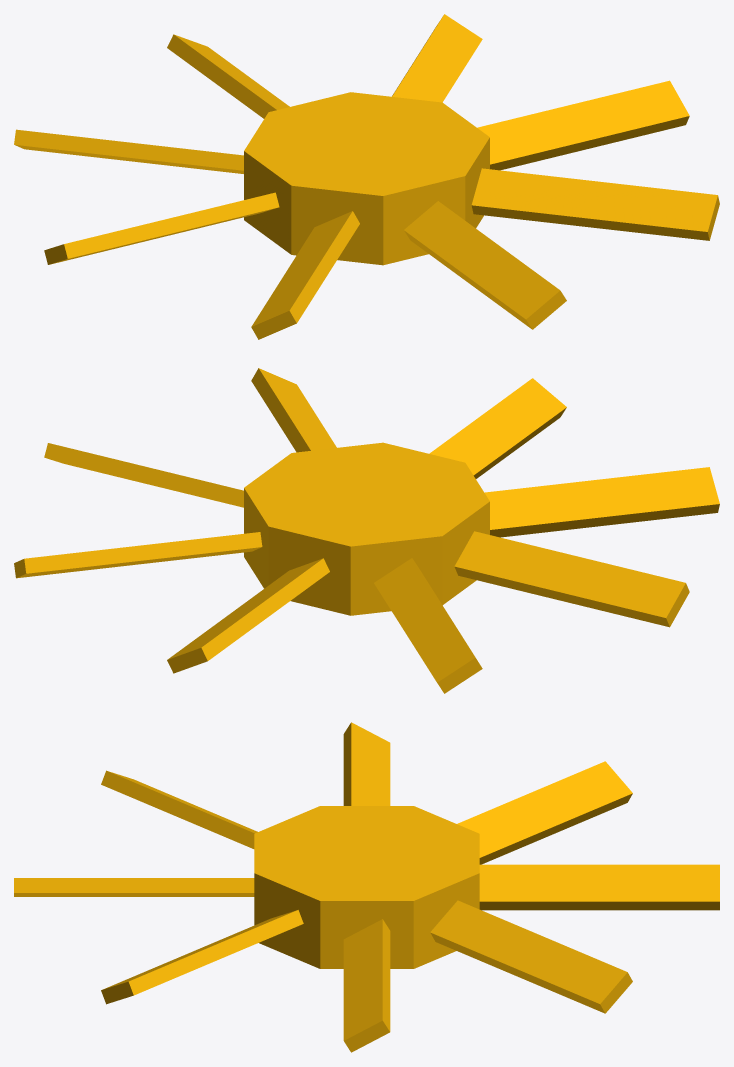
Rendered from fluid_radiator_electric_fan_3x3x1.dae.
3 views of the same model, one above another, from view 1: azimuth 30°, elevation 25°; view 2: azimuth 150°, elevation 25°; view 3: azimuth 270°, elevation 25° (orthographic).
Visible parts, largest first — view 1: Cube; view 2: Cube; view 3: Cube.
Part boxes in pixels (x1=…): Cube: x1=14, y1=14, x2=719, y2=339; Cube: x1=14, y1=368, x2=719, y2=693; Cube: x1=14, y1=722, x2=719, y2=1052.
Size of the model in its own units: 0.47 by 0.47 by 0.05.
